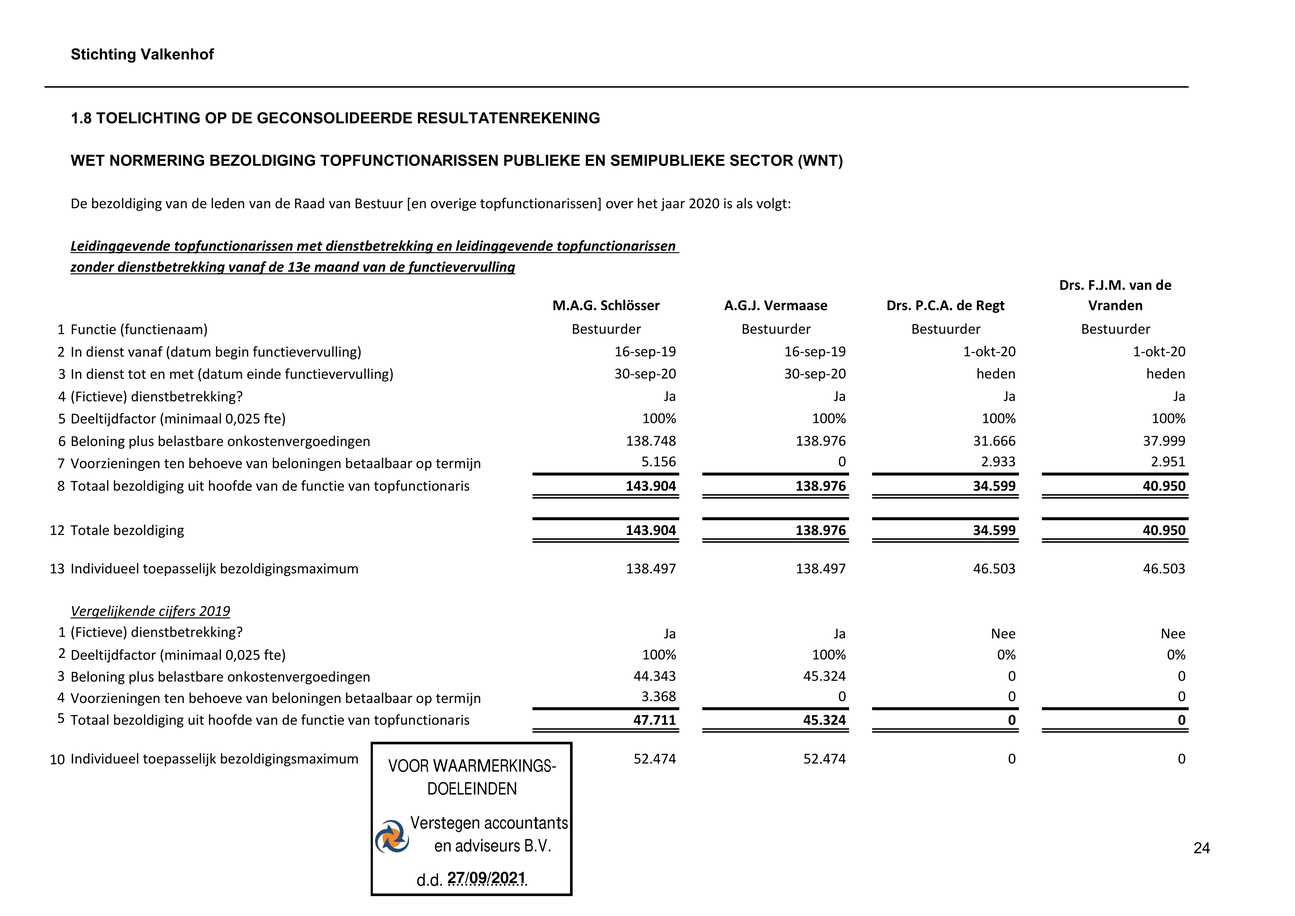coulmn: (48, 290, 471, 579), (46, 596, 486, 769), (1035, 275, 1203, 577), (700, 290, 867, 575), (522, 294, 687, 579), (867, 292, 1027, 577), (866, 621, 1031, 769), (527, 625, 687, 772), (695, 627, 858, 771), (1037, 622, 1198, 766)
